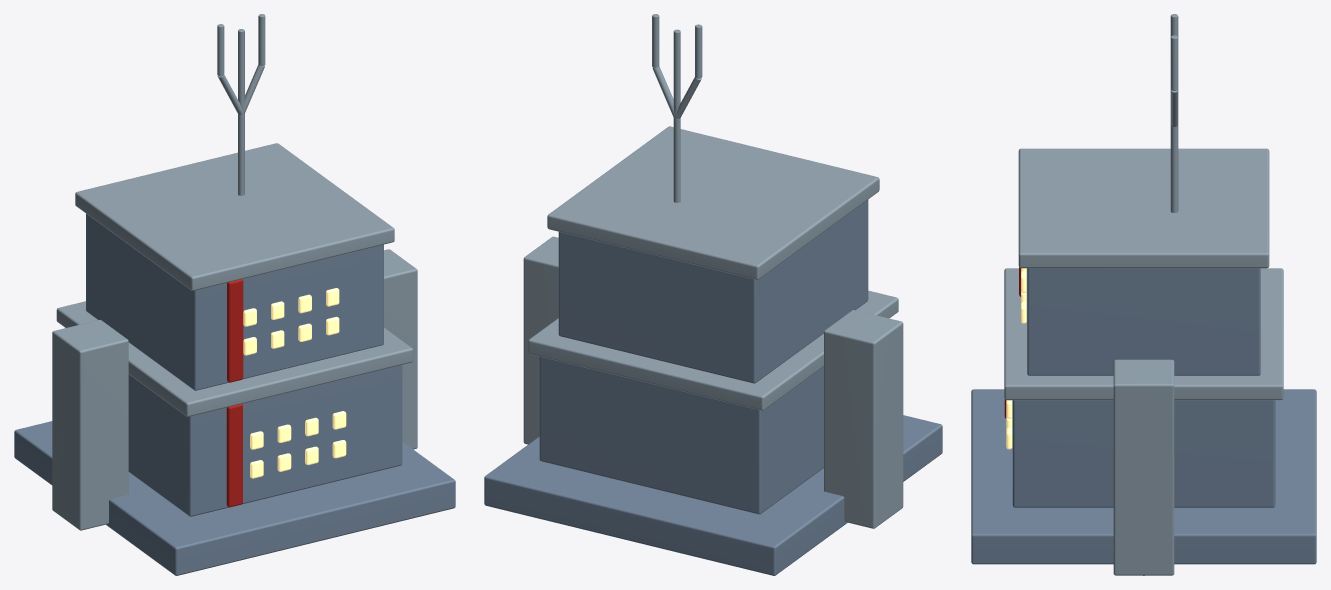
3 renders of one model, left to right at view 1: azimuth 30°, elevation 25°; view 2: azimuth 150°, elevation 25°; view 3: azimuth 270°, elevation 25°, orthographic. The views are drawn at different scales.
Visible parts, largest first — view 1: Block roof ledge.001, Modular block storey.001, Modular block storey, Foundation slab, Block buttress.001, Block roof ledge, Block buttress, Vertical block colour strip.001, Vertical block colour strip, Aerial stem; view 2: Modular block storey.001, Modular block storey, Block roof ledge.001, Foundation slab, Block buttress.001, Block roof ledge, Block buttress, Aerial stem; view 3: Block roof ledge.001, Foundation slab, Modular block storey.001, Modular block storey, Block buttress, Block roof ledge, Aerial stem, Aerial fork tine.001.
Part boxes in pixels (<box>): Block roof ledge.001: <box>75,143,394,290</box>; Modular block storey.001: <box>86,213,383,390</box>; Modular block storey: <box>128,365,402,516</box>; Foundation slab: <box>14,421,455,575</box>; Block buttress.001: <box>52,320,128,530</box>; Block roof ledge: <box>56,301,413,416</box>; Block buttress: <box>384,249,417,449</box>; Vertical block colour strip.001: <box>227,279,243,382</box>; Vertical block colour strip: <box>226,404,242,507</box>; Aerial stem: <box>238,29,244,195</box>; Modular block storey.001: <box>558,199,868,383</box>; Modular block storey: <box>539,356,823,514</box>; Block roof ledge.001: <box>547,126,879,279</box>; Foundation slab: <box>484,415,942,575</box>; Block buttress.001: <box>824,310,903,528</box>; Block roof ledge: <box>528,290,898,410</box>; Block buttress: <box>523,236,558,444</box>; Aerial stem: <box>673,29,680,202</box>; Block roof ledge.001: <box>1018,148,1269,268</box>; Foundation slab: <box>971,389,1316,564</box>; Modular block storey.001: <box>1027,268,1260,375</box>; Modular block storey: <box>1012,400,1275,507</box>; Block buttress: <box>1113,359,1174,575</box>; Block roof ledge: <box>1004,268,1283,400</box>; Aerial stem: <box>1170,35,1178,212</box>; Aerial fork tine.001: <box>1170,35,1178,90</box>.
Size of the model in its own units: 2.46 by 3.11 by 2.04.
